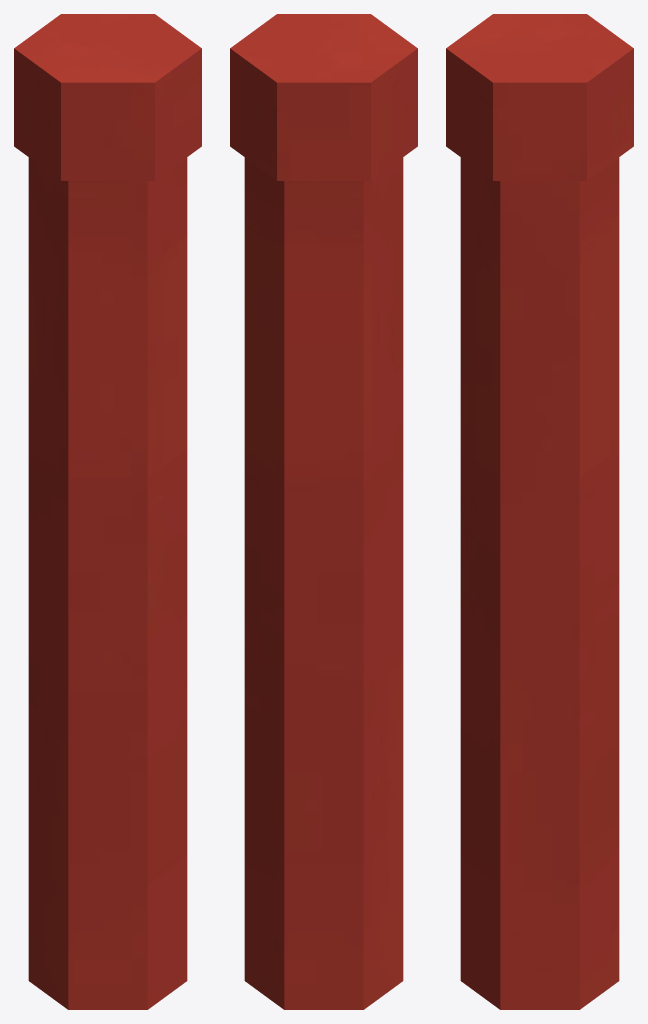
File: prick_rod_tex.glb
3 views of the same model, side by side, from view 1: azimuth 30°, elevation 25°; view 2: azimuth 150°, elevation 25°; view 3: azimuth 270°, elevation 25° (orthographic).
Parts seen in each view (by area): view 1: prick_rod; view 2: prick_rod; view 3: prick_rod.
Boxes of the visible parts, x1=… form: prick_rod: x1=14, y1=14, x2=201, y2=1009; prick_rod: x1=230, y1=14, x2=417, y2=1009; prick_rod: x1=446, y1=14, x2=633, y2=1009.
Size of the model in its own units: 0.4503 by 2.85 by 0.52.
1 material, 1 textured.
